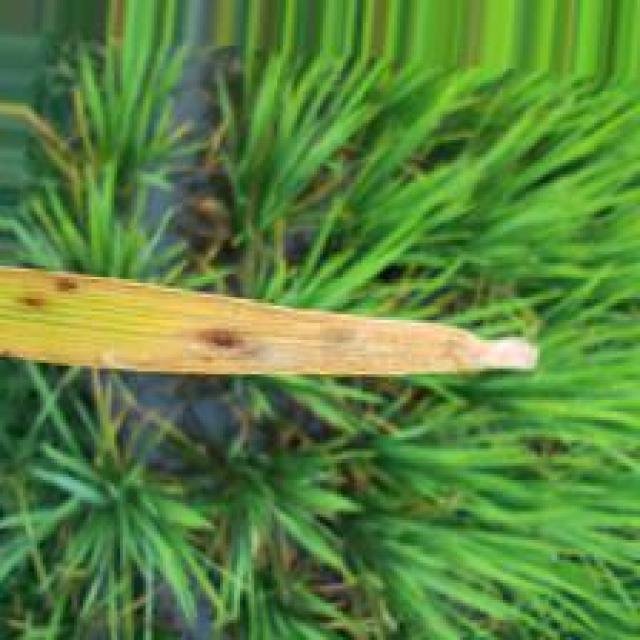Bacterial_Leaf_Blight: (0, 267, 538, 375), (23, 298, 49, 311)
